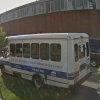Bus: (5, 30, 91, 87)
